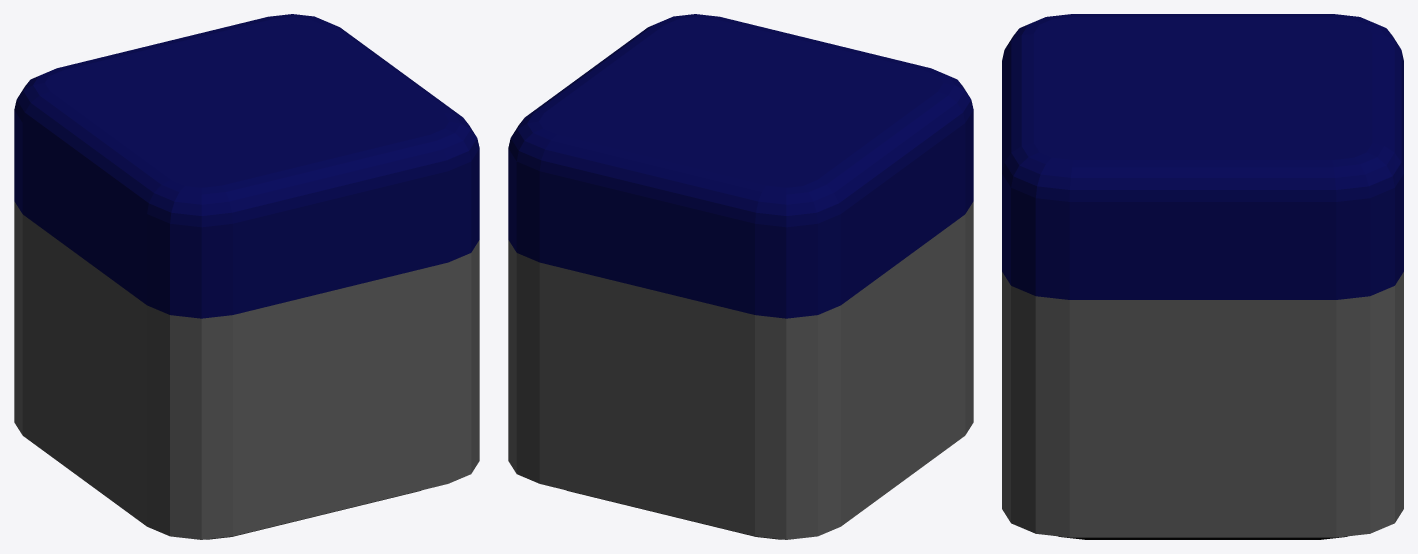
File: Bot.fbx
The picture shows the model from 3 angles, left to right: view 1: azimuth 30°, elevation 25°; view 2: azimuth 150°, elevation 25°; view 3: azimuth 270°, elevation 25°; orthographic projection. The views are drawn at different scales.
Parts seen in each view (by area): view 1: Cube; view 2: Cube; view 3: Cube.
Part boxes in pixels (box(x1,y1,x2,y2)): Cube: box(14, 14, 479, 539); Cube: box(508, 14, 973, 539); Cube: box(1002, 14, 1403, 539).
Bounding box in the file's own units: 200 × 209 × 200.
